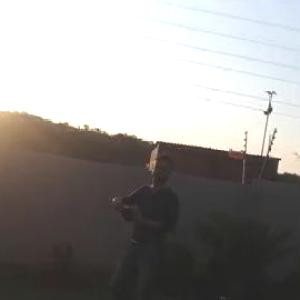follow: (102, 149, 184, 299)
